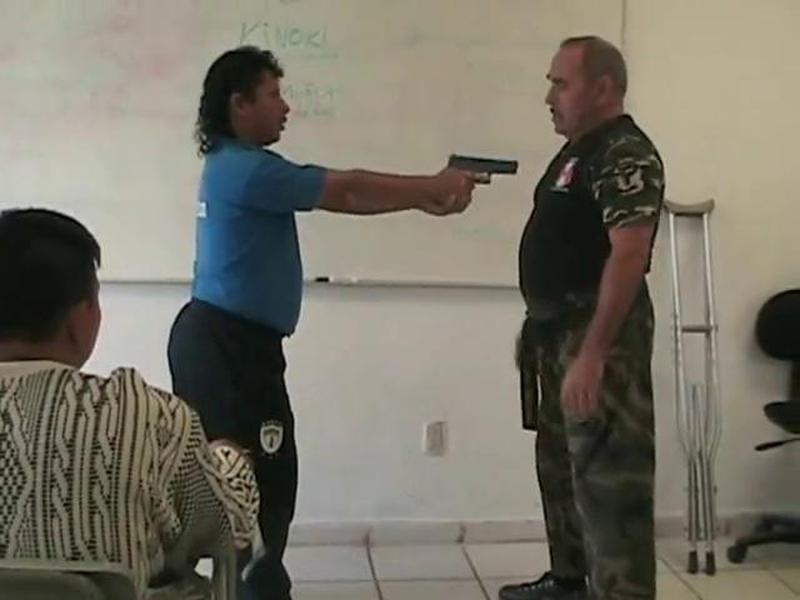Pistola: (442, 144, 524, 221)
